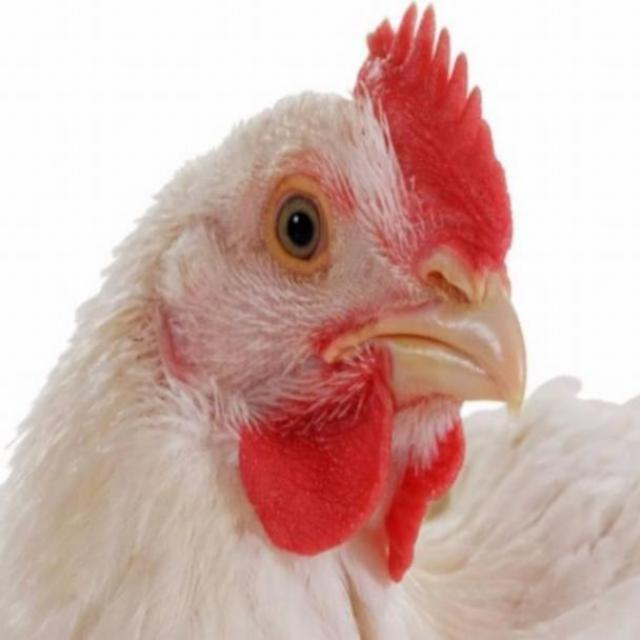Chicken: (11, 6, 556, 609)
